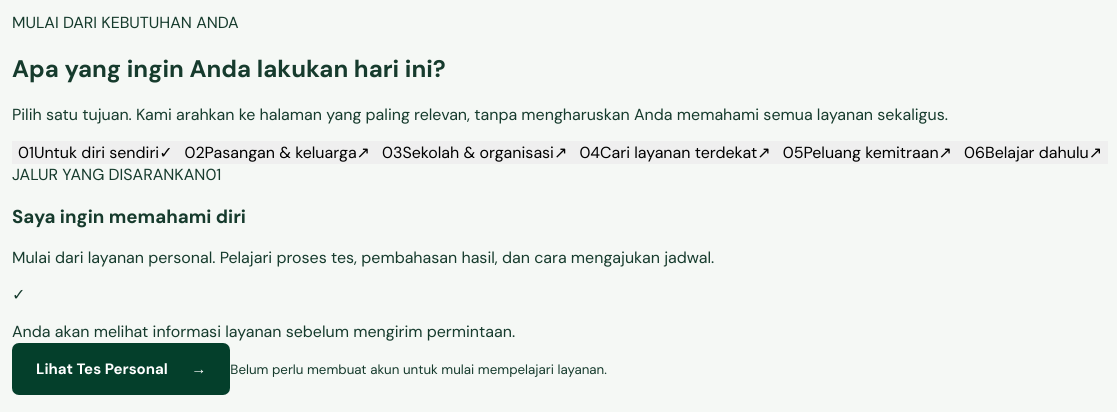
Scenario: visitor path finder › mengubah rekomendasi saat pengunjung memilih kebutuhan keluarga
Click the button "02Pasangan & keluarga↗": (277, 152) [179,141,376,164]
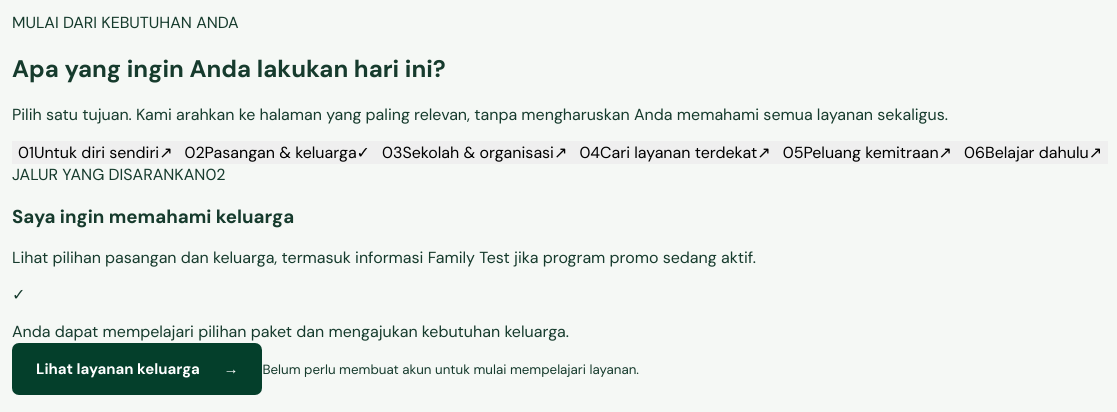
Expected: the heading "Saya ingin memahami keluarga" is shown, [12,204,294,228]
